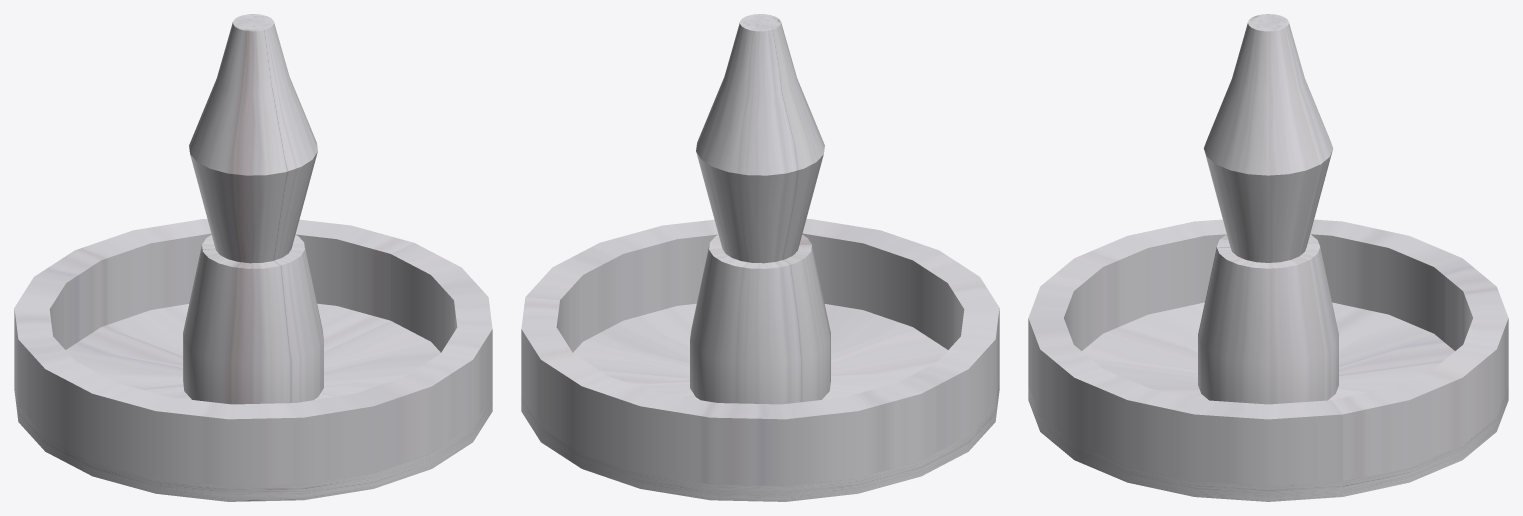
File: fountain.dae
The picture shows the model from 3 angles, left to right: view 1: azimuth 30°, elevation 25°; view 2: azimuth 150°, elevation 25°; view 3: azimuth 270°, elevation 25°; orthographic projection.
Parts seen in each view (by area): view 1: pCylinder1; view 2: pCylinder1; view 3: pCylinder1.
Part boxes in pixels (left/top/right/bottom): pCylinder1: left=14, top=14, right=492, bottom=501; pCylinder1: left=521, top=14, right=999, bottom=501; pCylinder1: left=1028, top=14, right=1508, bottom=501.
Size of the model in its own units: 19.5 by 16.93 by 19.5.
